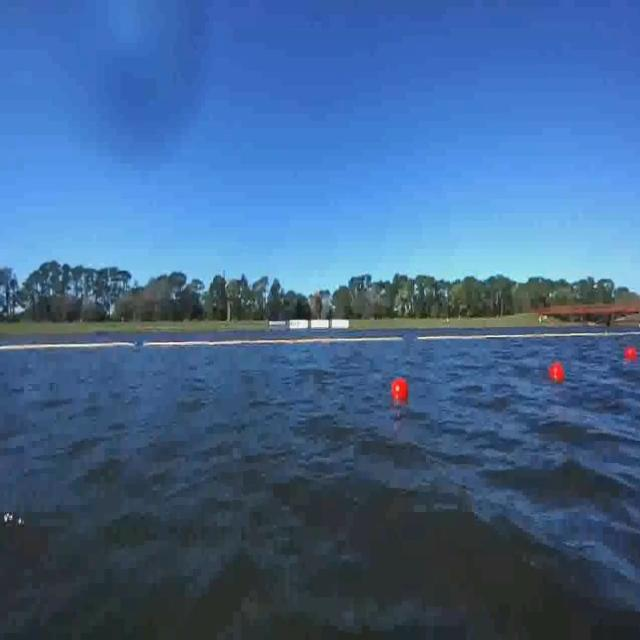red-buoy: (392, 378, 408, 401), (550, 361, 566, 383), (624, 346, 639, 362)
